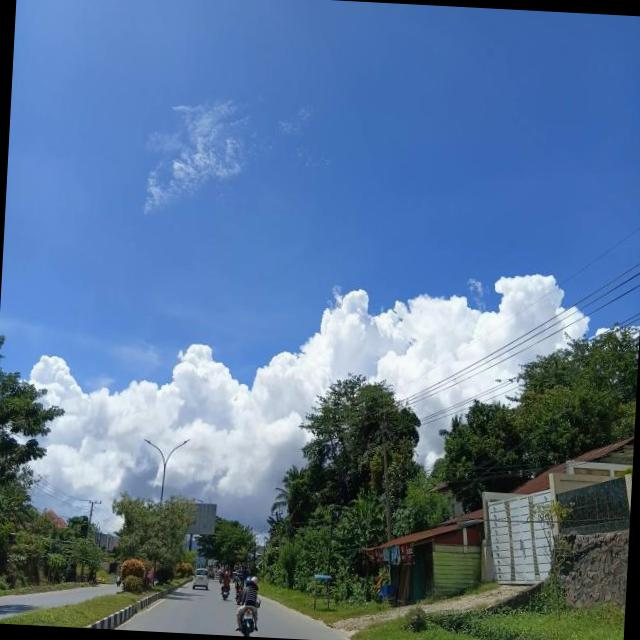cumulus: (319, 272, 564, 356), (167, 358, 297, 482), (53, 386, 144, 495)
